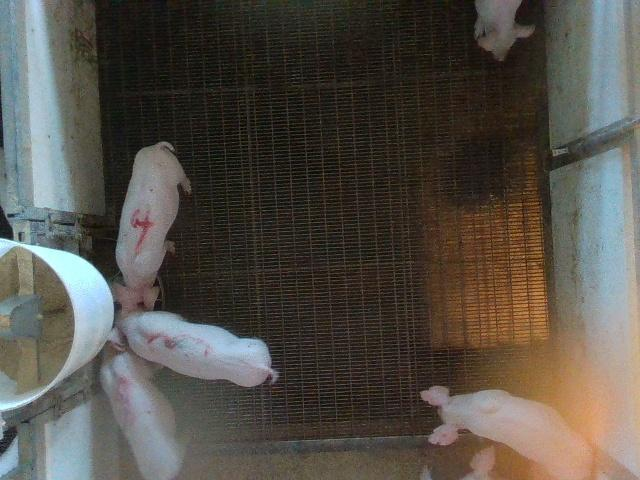pig-3: (110, 286, 278, 386)
pig-4: (116, 141, 191, 289)
pig-5: (100, 350, 184, 479)
